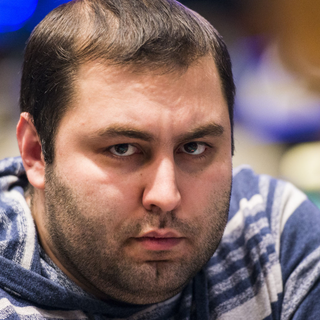eye: (95, 135, 146, 164), (172, 135, 216, 163)
